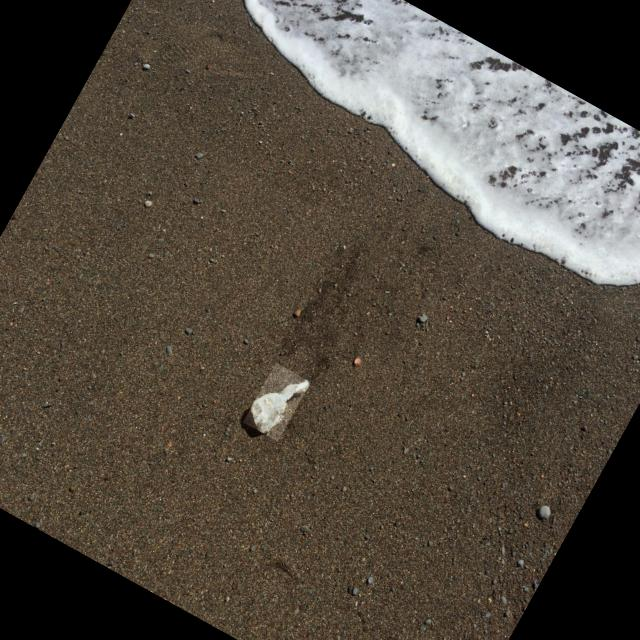Other plastic bottle: (250, 381, 308, 433)
